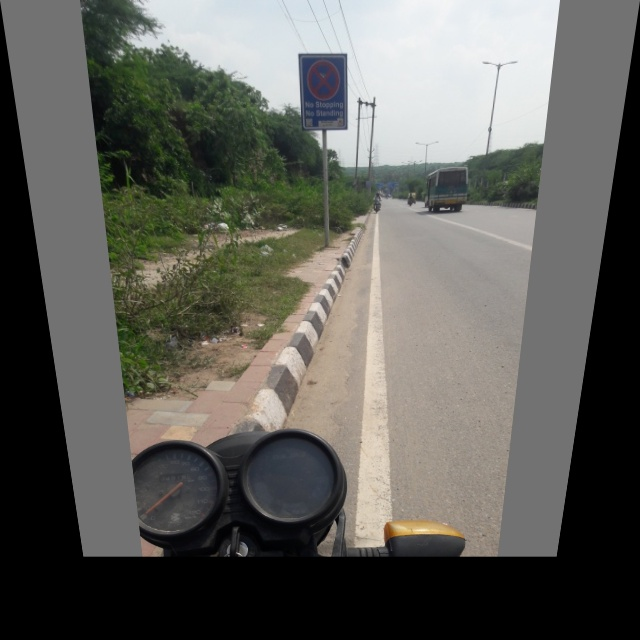No_Stopping_or_Standing: (300, 52, 345, 106)
